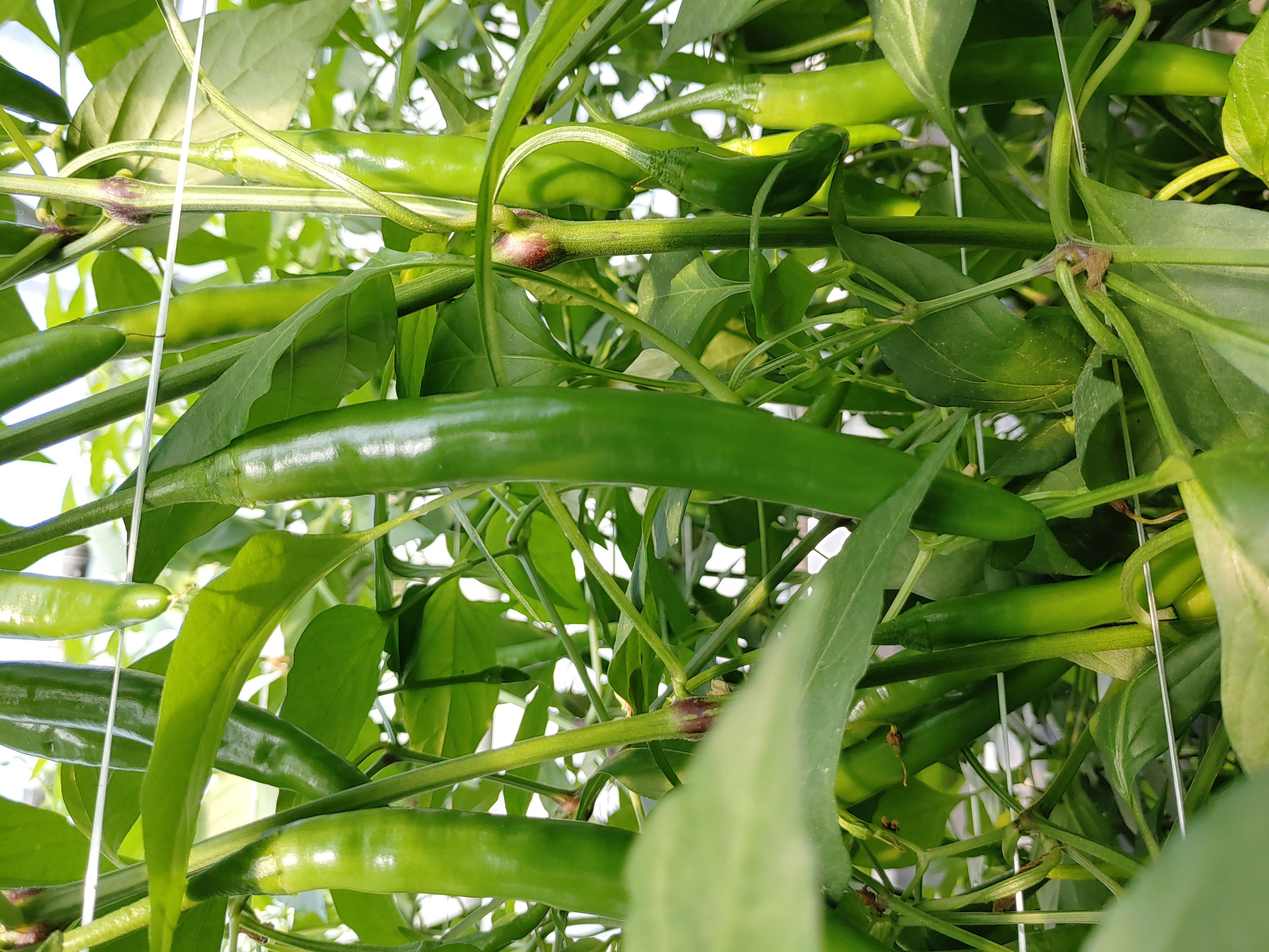Buah Cabai Sehat: (206, 374, 1045, 550)
